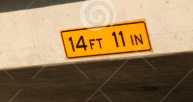1: (66, 35, 77, 55), (109, 31, 121, 49), (118, 29, 126, 48)
4: (73, 32, 89, 54)
overheadsign: (61, 18, 148, 60)
